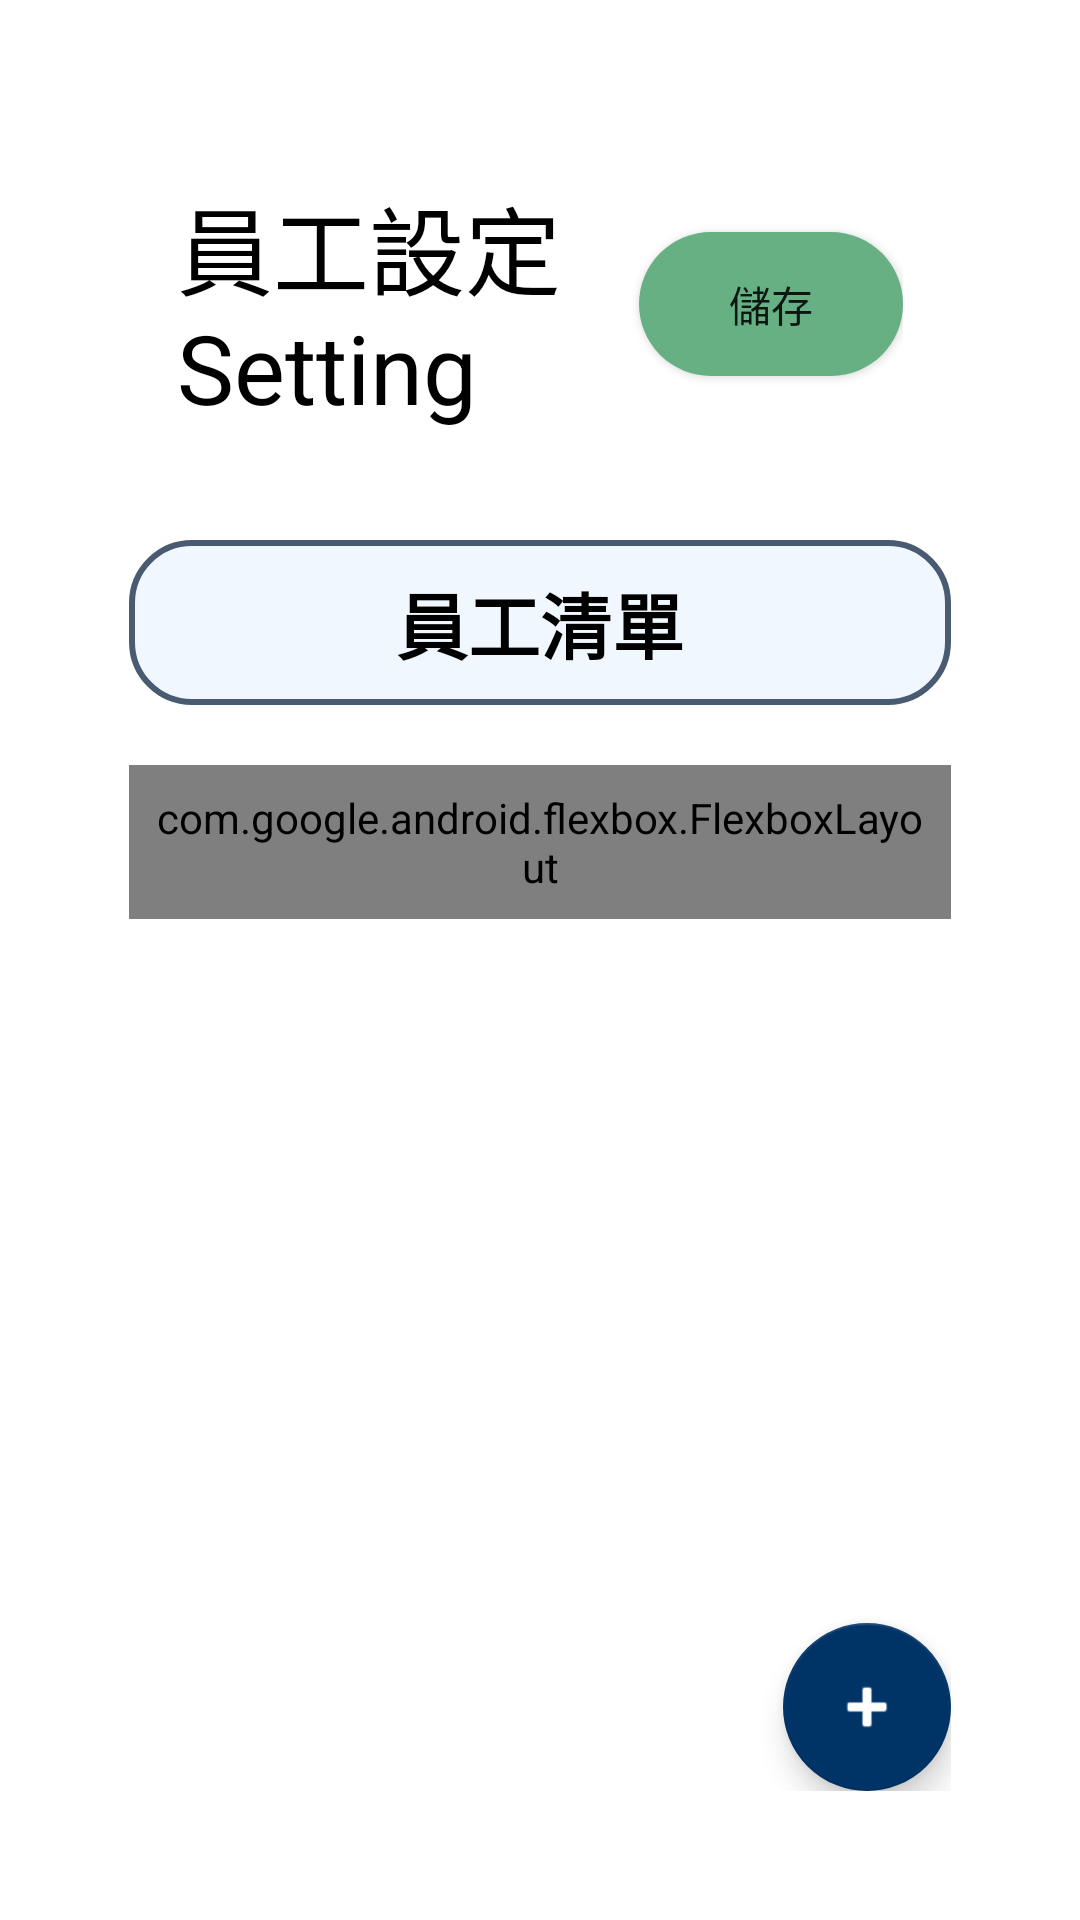

Icon click points for this 1080*1920 phone screenshot, format [x,y]:
新增資料: [867,1707]
